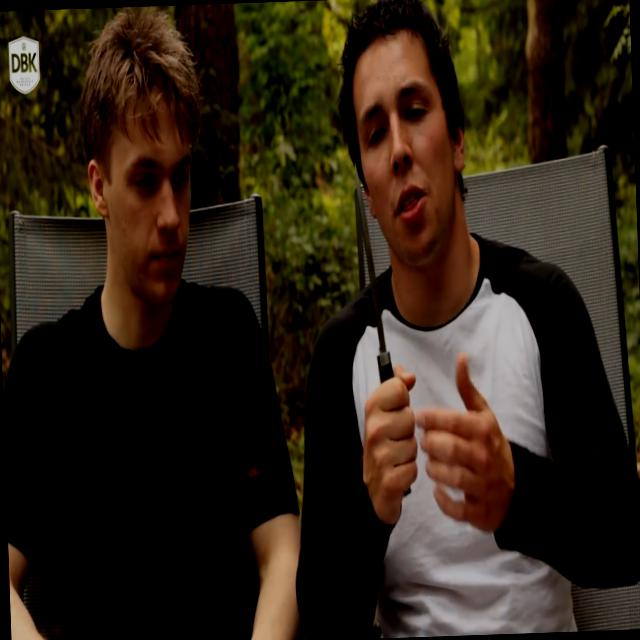knife: (342, 143, 420, 504)
